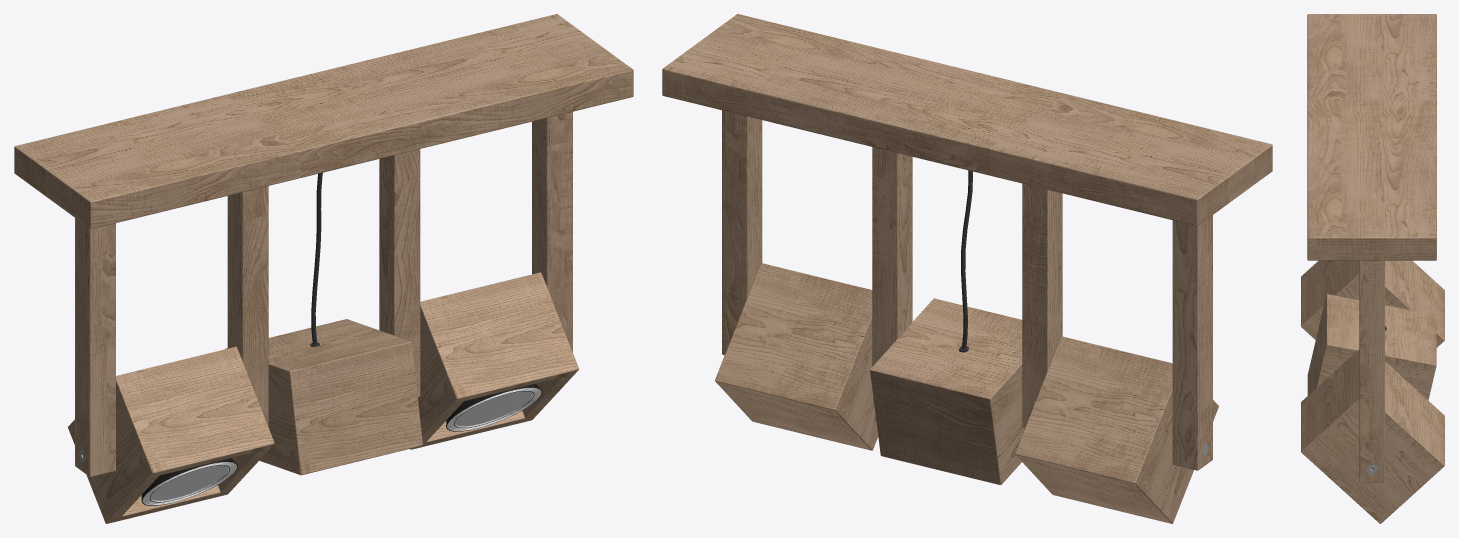
Rendered from Wood Spot.fbx.
3 views of the same model, side by side, from view 1: azimuth 30°, elevation 25°; view 2: azimuth 150°, elevation 25°; view 3: azimuth 270°, elevation 25° (orthographic). The views are drawn at different scales.
Visible parts, largest first — view 1: Cylinder.003; view 2: Cylinder.003; view 3: Cylinder.003.
Part boxes in pixels (bbox=[...]): Cylinder.003: bbox=[14, 14, 633, 523]; Cylinder.003: bbox=[662, 14, 1272, 523]; Cylinder.003: bbox=[1301, 14, 1444, 523].
Bounding box in the file's own units: 20.48 × 13.25 × 5.55.
